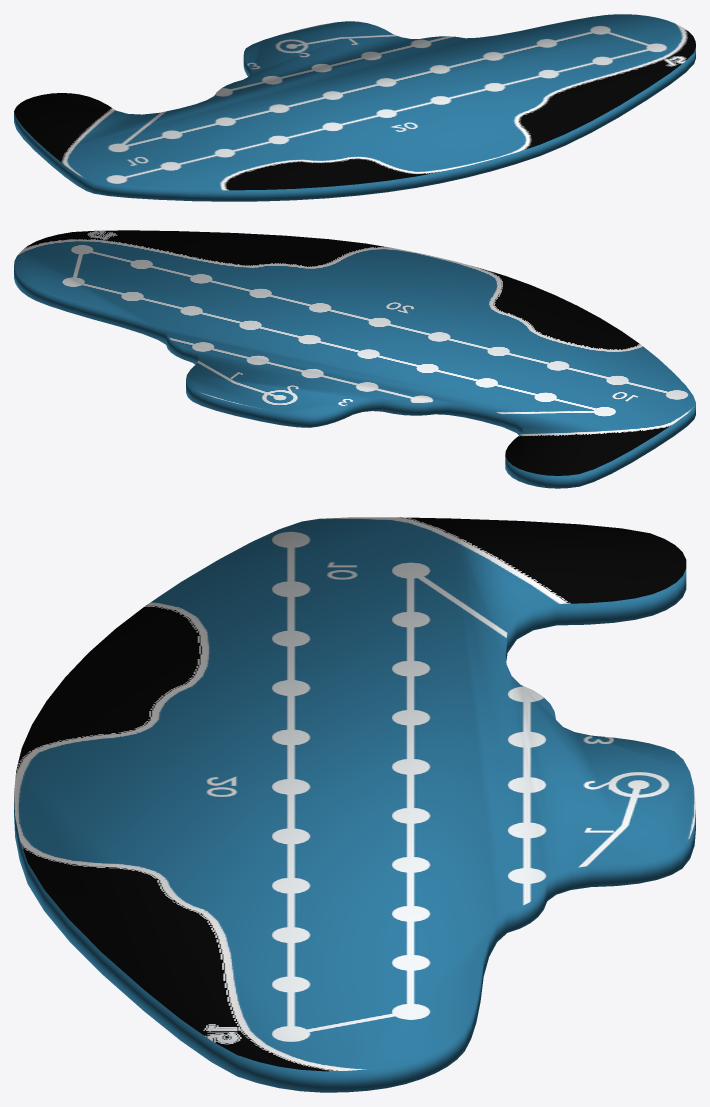
The model's file is submarine_board.glb.
The picture shows the model from 3 angles, top to bottom: view 1: azimuth 30°, elevation 25°; view 2: azimuth 150°, elevation 25°; view 3: azimuth 270°, elevation 25°; orthographic projection. The views are drawn at different scales.
Visible parts, largest first — view 1: submarine_board; view 2: submarine_board; view 3: submarine_board.
Boxes of the visible parts, x1,y1,x2,y2 form: submarine_board: (14,14,695,201); submarine_board: (14,230,695,488); submarine_board: (14,517,695,1092).
Bounding box in the file's own units: 0.1662 × 0.003 × 0.0865.
2 materials, 1 textured.
